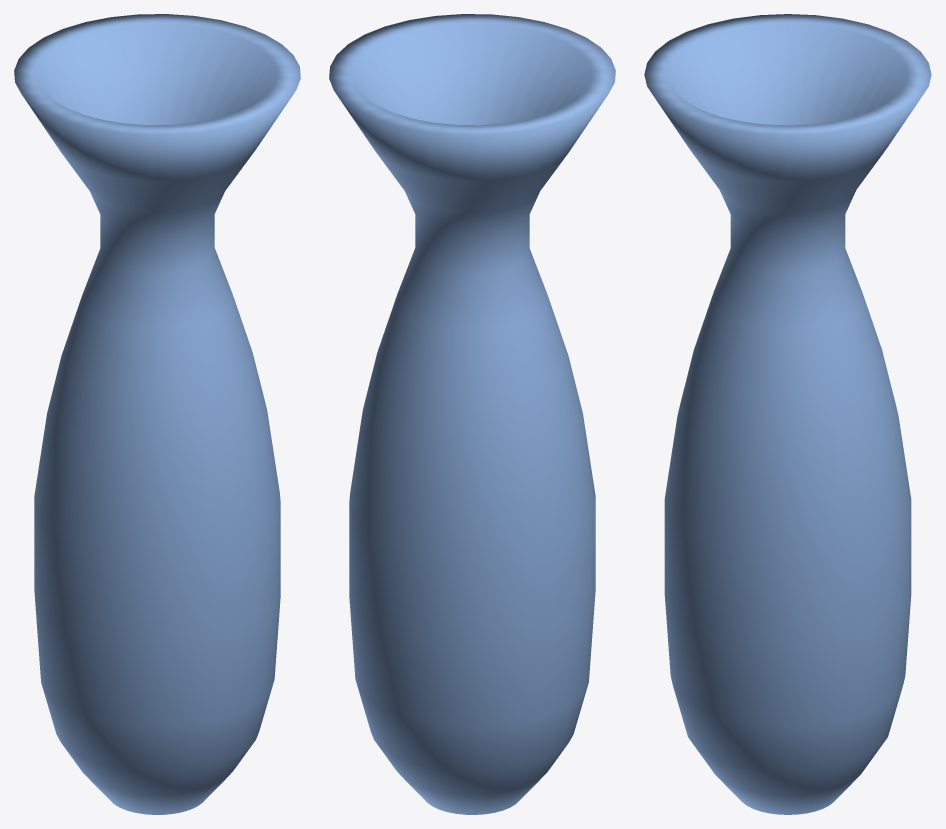
The model's file is vase.fbx.
3 views of the same model, side by side, from view 1: azimuth 30°, elevation 25°; view 2: azimuth 150°, elevation 25°; view 3: azimuth 270°, elevation 25° (orthographic).
Parts seen in each view (by area): view 1: Cylinder; view 2: Cylinder; view 3: Cylinder.
Boxes of the visible parts, <box> form: Cylinder: <box>14,14,300,814</box>; Cylinder: <box>329,14,615,814</box>; Cylinder: <box>644,14,931,814</box>.
Size of the model in its own units: 260 by 717 by 260.
